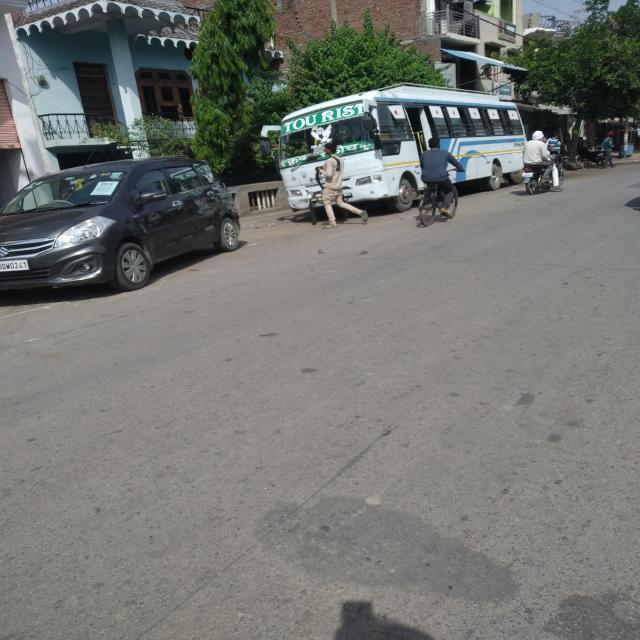bus_front: (256, 77, 545, 226)
car_front: (0, 154, 246, 306)
two_wheeler_back: (516, 152, 569, 198)
